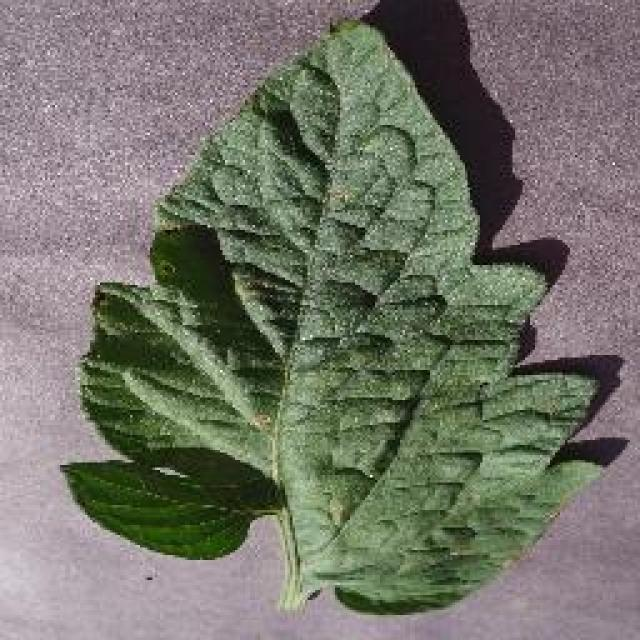Tomato___Target_Spot: (65, 20, 598, 612)
